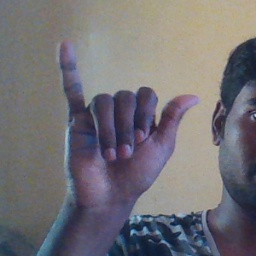J: (50, 41, 201, 202)
